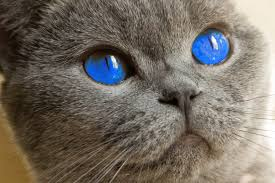cat: (1, 1, 272, 171)
